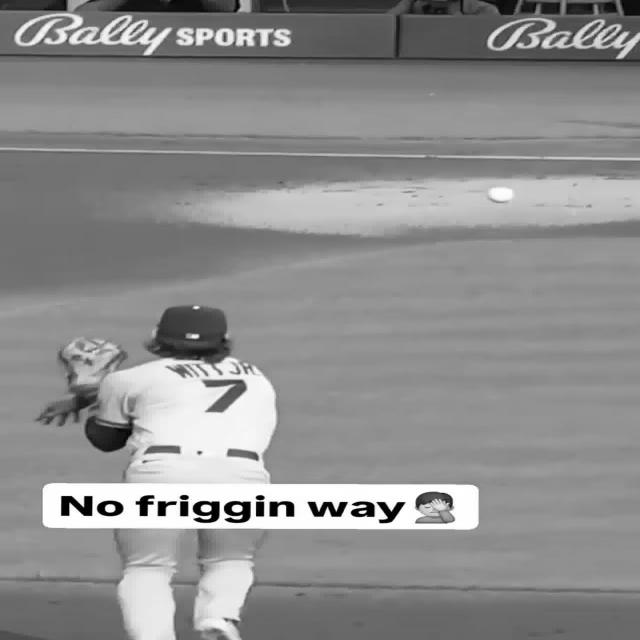baseball: (487, 186, 513, 202)
baseball_glove: (60, 338, 127, 394)
shoe: (196, 618, 242, 640)
